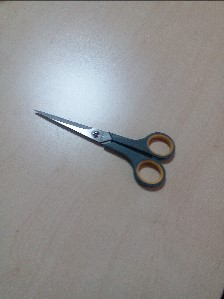scissors: (32, 107, 182, 189)
